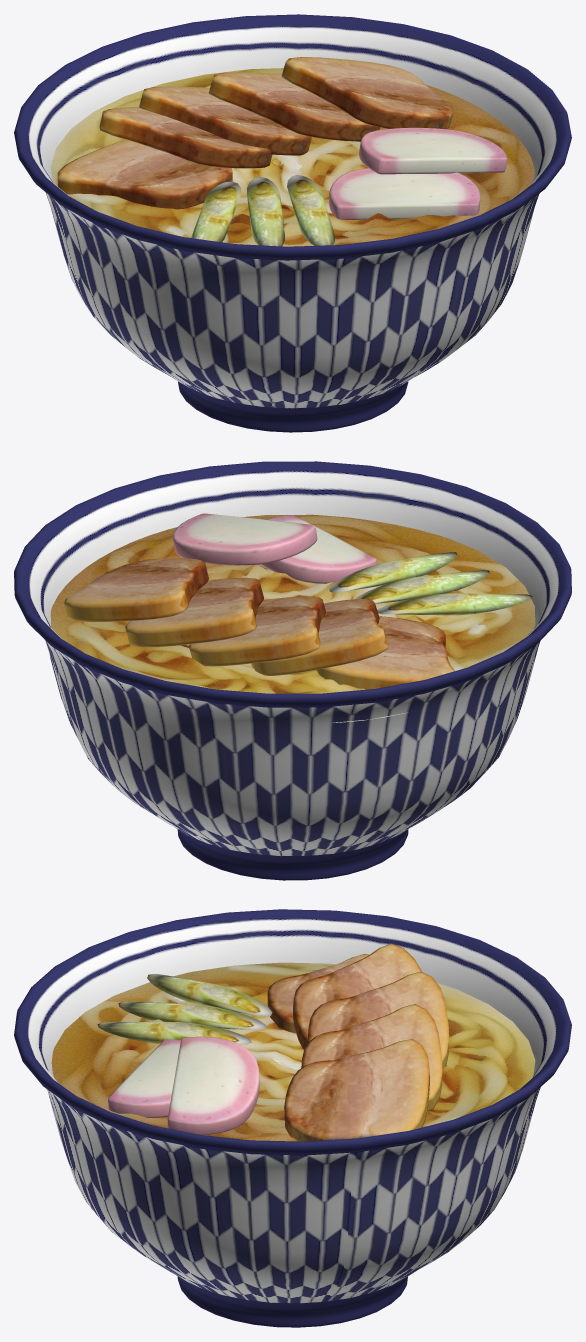
The model's file is kamoudon.glb.
3 renders of one model, top to bottom at view 1: azimuth 30°, elevation 25°; view 2: azimuth 150°, elevation 25°; view 3: azimuth 270°, elevation 25°, orthographic.
Parts seen in each view (by area): view 1: KamoUdon; view 2: KamoUdon; view 3: KamoUdon.
Part boxes in pixels (x1,y1,x2,y2): KamoUdon: [14, 14, 571, 432]; KamoUdon: [14, 461, 571, 880]; KamoUdon: [14, 909, 571, 1327].
Size of the model in its own units: 0.1772 by 0.0941 by 0.1772.
Materials: 2 (2 with a texture image).
